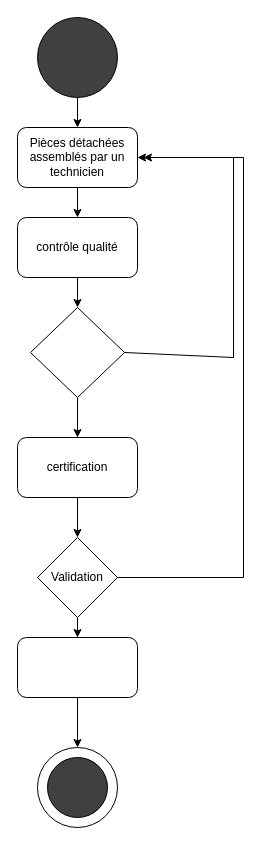
The diagram is 269 pixels wide and 845 high, and some of its shapes have lost their labels. Each missing label, with the box of its shape:
Bonne qualité: (30, 306, 124, 398)
Mise en stock: (16, 636, 138, 698)
